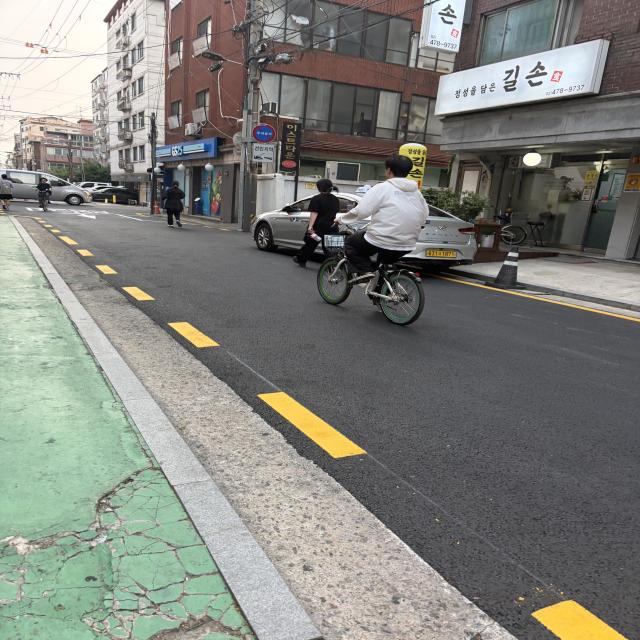bicycle: (288, 145, 452, 343)
car: (240, 184, 502, 277), (0, 152, 105, 214)
